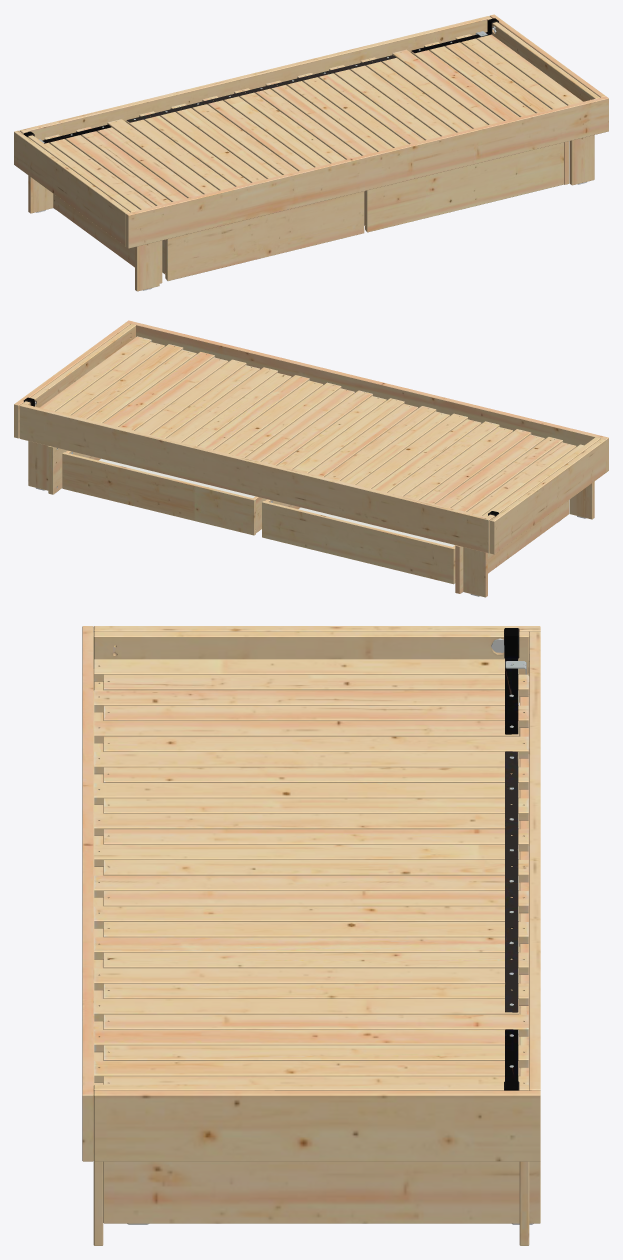
The model's file is glamberget_rozsuwane_ozko_z_pojemnikami_60564845.glb.
3 renders of one model, top to bottom at view 1: azimuth 30°, elevation 25°; view 2: azimuth 150°, elevation 25°; view 3: azimuth 270°, elevation 25°, orthographic. The views are drawn at different scales.
Parts seen in each view (by area): view 1: glamberget_rozsuwane_ozko_z_pojemnikami_60564845; view 2: glamberget_rozsuwane_ozko_z_pojemnikami_60564845; view 3: glamberget_rozsuwane_ozko_z_pojemnikami_60564845.
Part boxes in pixels (x1,y1,x2,y2): glamberget_rozsuwane_ozko_z_pojemnikami_60564845: (14, 14, 608, 291); glamberget_rozsuwane_ozko_z_pojemnikami_60564845: (14, 320, 608, 597); glamberget_rozsuwane_ozko_z_pojemnikami_60564845: (82, 626, 540, 1245).
Size of the model in its own units: 2.1 by 0.351 by 0.869.
1 material, 1 textured.
